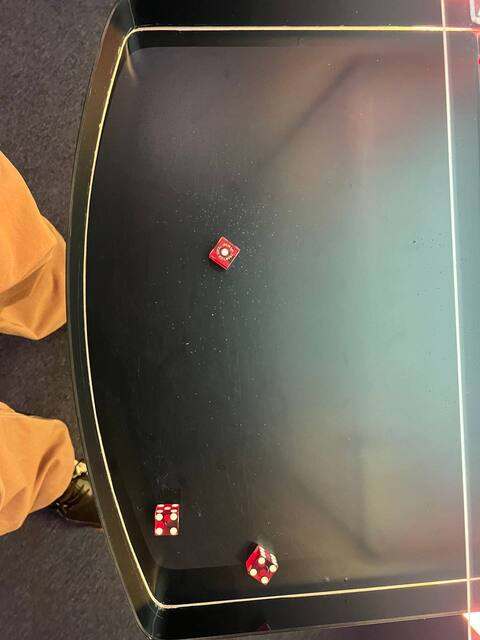four: (244, 554, 279, 587), (152, 510, 181, 539)
one: (205, 233, 244, 272)
